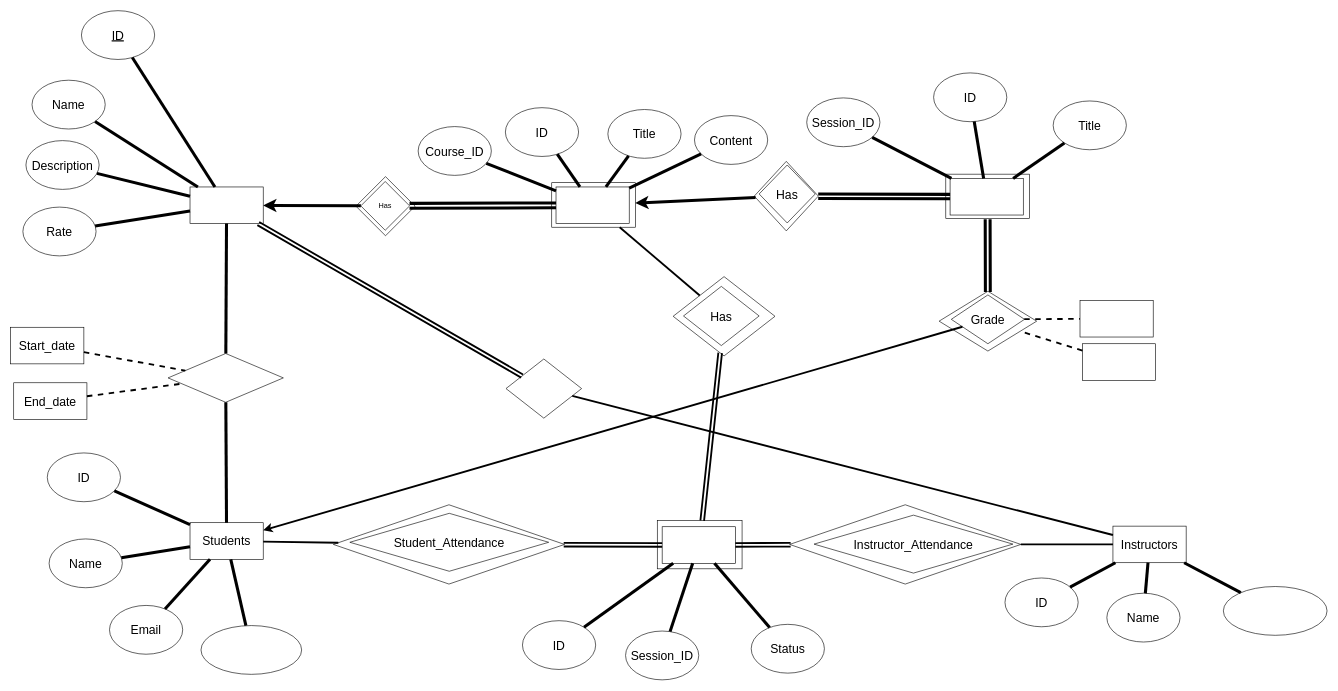
Image size: 1338x691. Some labels were removed from this diagram. Here are the shapes that lost their labels. From the top down, the centre of each, then its label:
point 226,205: Courses
point 592,205: Session
point 986,196: Assignment
point 1116,318: Score
point 225,377: Register
point 1119,361: Evaluation
point 543,388: Teach
point 698,544: Attendance
point 1275,610: Personal_Level
point 251,649: Phone_number
